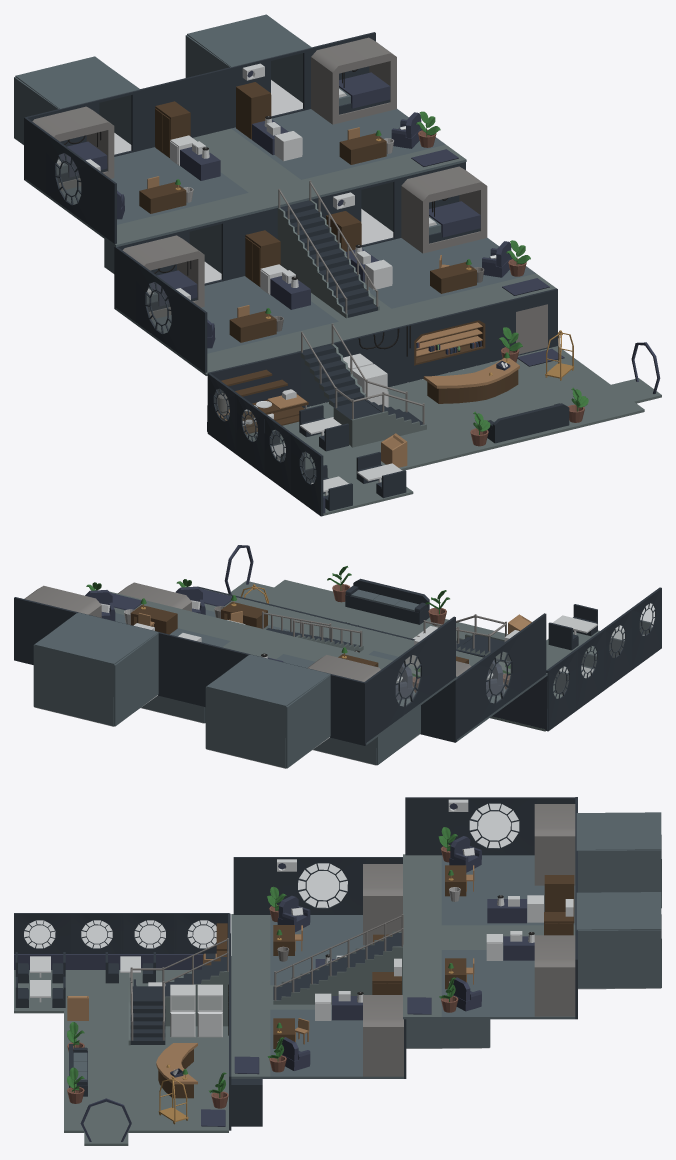
The model's file is hotel_02_blockout.fbx.
3 renders of one model, top to bottom at view 1: azimuth 30°, elevation 25°; view 2: azimuth 150°, elevation 25°; view 3: azimuth 270°, elevation 25°, orthographic. The views are drawn at different scales.
Parts seen in each view (by area): view 1: first_floor_GEO (×2), lobby_floor_GEO, window_pane_GEO (×3), stairs_GEO (×2), lobby_wall_GEO, bed_frame_2_GEO (×2), first_floor_wall_2_GEO (×2), first_floor_wall_5_GEO (×2), bed_frame_1_GEO (×2), lobby_floor_GEO12, toilet_roof_GEO, wardrobe_GEO1 (×2) (+28 smaller); view 2: window_pane_GEO (×3), first_floor_GEO (×2), first_floor_wall_3_GEO (×2), lobby_floor_GEO10 (×2), first_floor_wall_2_GEO, first_floor_wall_5_GEO (×2), lobby_floor_GEO, toilet_wall_3_GEO (×2), lobby_floor_GEO12, toilet_roof_GEO, first_floor_wall_1_GEO, bed_frame_2_GEO (×2) (+21 smaller); view 3: first_floor_GEO (×2), lobby_floor_GEO, window_pane_GEO (×3), stairs_GEO (×2), lobby_floor_GEO11 (×2), bed_frame_2_GEO (×2), bed_frame_1_GEO (×2), window_glass_GEO (×3), first_floor_wall_4_GEO, kitchen_floor_GEO, toilet_roof_GEO, lobby_floor_GEO12 (+22 smaller).
Part boxes in pixels (x1,y1,x2,y2): first_floor_GEO (×2): [25, 109, 556, 375]; lobby_floor_GEO: [304, 346, 661, 470]; window_pane_GEO (×3): [25, 118, 292, 494]; stairs_GEO (×2): [277, 200, 426, 447]; lobby_wall_GEO: [297, 288, 557, 407]; bed_frame_2_GEO (×2): [311, 37, 487, 253]; first_floor_wall_2_GEO (×2): [186, 32, 465, 247]; first_floor_wall_5_GEO (×2): [24, 78, 277, 309]; bed_frame_1_GEO (×2): [32, 106, 204, 319]; lobby_floor_GEO12: [187, 14, 310, 67]; toilet_roof_GEO: [15, 56, 139, 109]; wardrobe_GEO1 (×2): [155, 101, 280, 286]; window_pane_GEO (×3): [363, 609, 631, 743]; first_floor_GEO (×2): [110, 588, 547, 744]; first_floor_wall_3_GEO (×2): [206, 688, 376, 768]; lobby_floor_GEO10 (×2): [34, 646, 204, 726]; first_floor_wall_2_GEO: [14, 597, 203, 706]; first_floor_wall_5_GEO (×2): [203, 643, 456, 745]; lobby_floor_GEO: [231, 580, 507, 640]; toilet_wall_3_GEO (×2): [286, 674, 420, 768]; lobby_floor_GEO12: [34, 612, 158, 664]; toilet_roof_GEO: [206, 654, 330, 706]; first_floor_wall_1_GEO: [114, 633, 158, 726]; bed_frame_2_GEO (×2): [24, 582, 191, 617]; first_floor_GEO (×2): [231, 854, 575, 1078]; lobby_floor_GEO: [64, 1011, 228, 1145]; window_pane_GEO (×3): [71, 797, 575, 953]; stairs_GEO (×2): [128, 931, 402, 1045]; lobby_floor_GEO11 (×2): [406, 930, 661, 1048]; bed_frame_2_GEO (×2): [363, 935, 575, 1076]; bed_frame_1_GEO (×2): [363, 804, 575, 945]; window_glass_GEO (×3): [81, 804, 518, 948]; first_floor_wall_4_GEO: [576, 850, 661, 892]; kitchen_floor_GEO: [14, 970, 191, 1013]; toilet_roof_GEO: [576, 812, 661, 850]; lobby_floor_GEO12: [576, 892, 661, 929].
Size of the model in its own units: 2001 by 927 by 3123.
